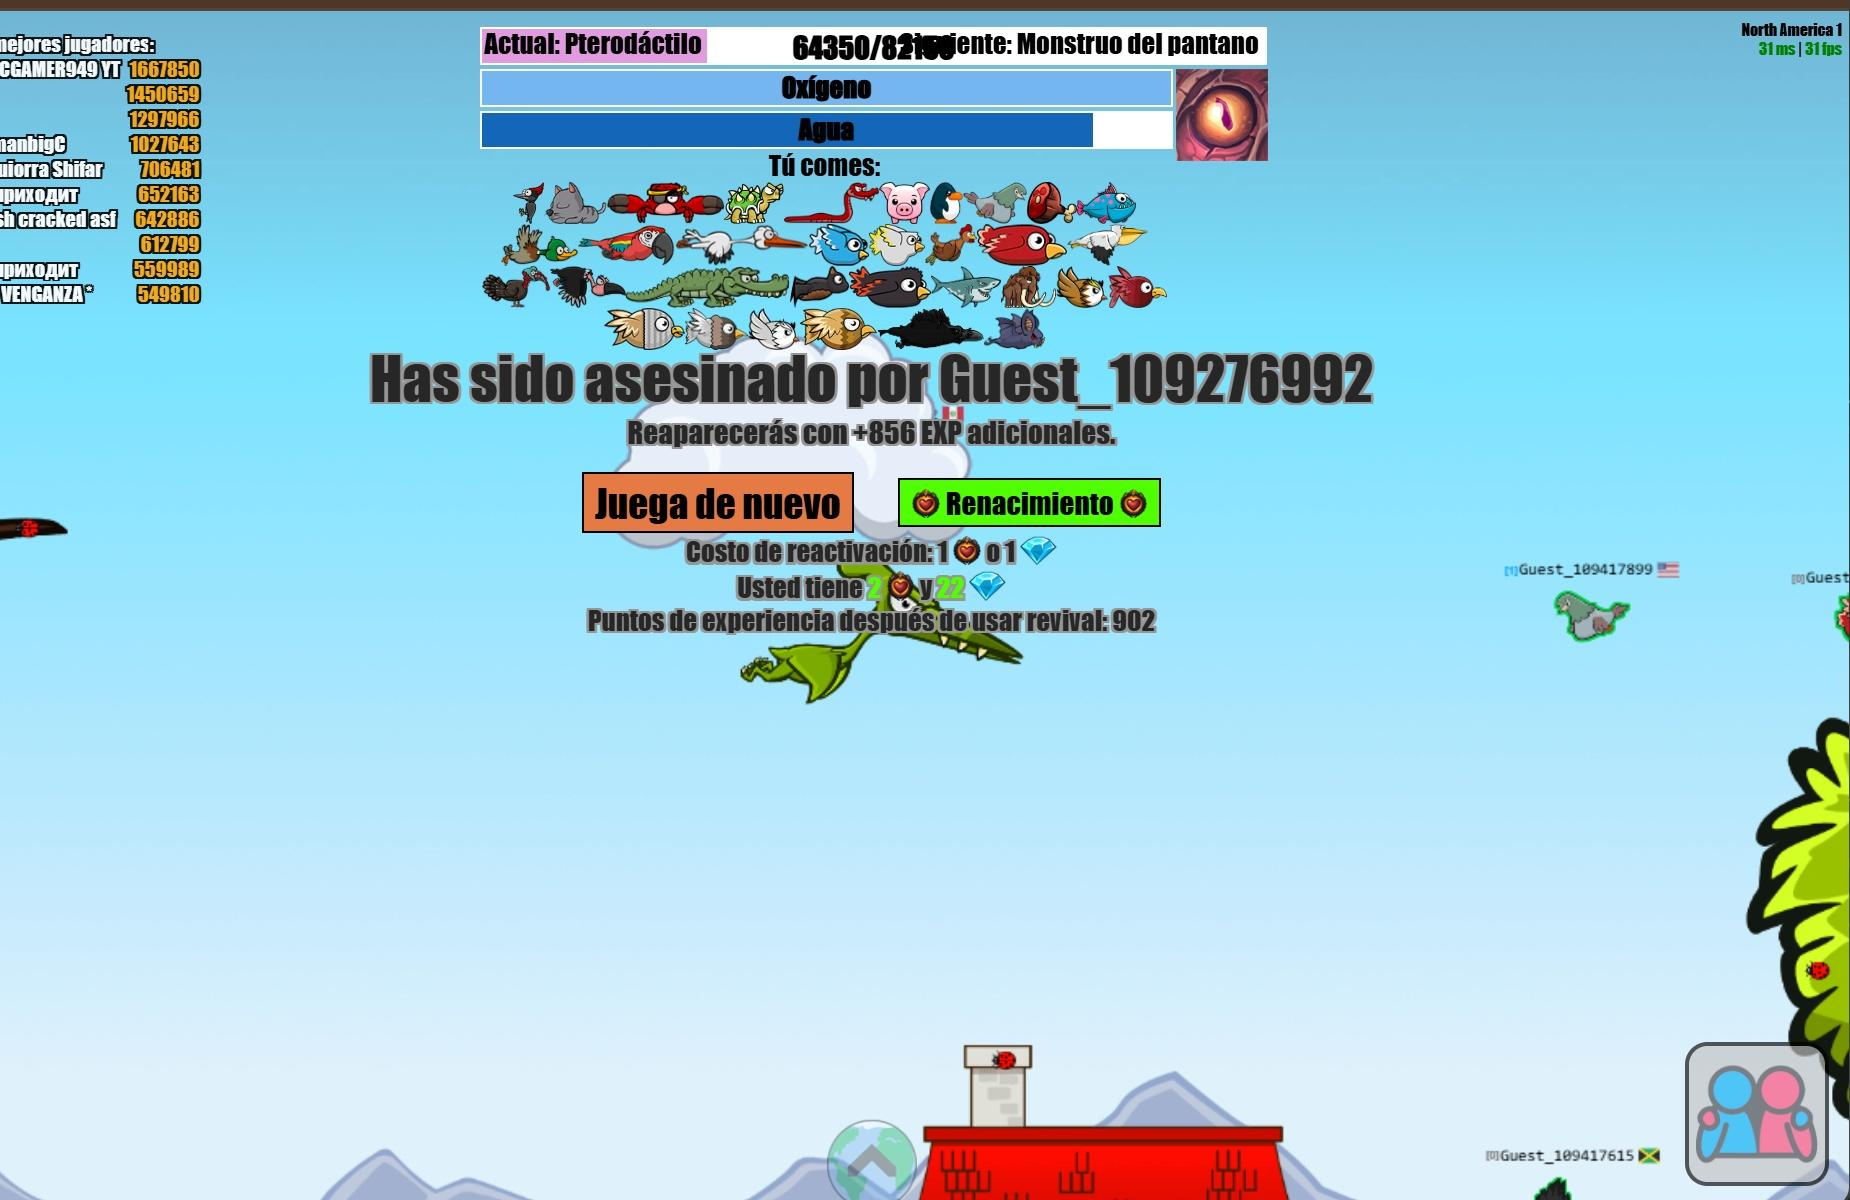aguila: (688, 307, 742, 349)
alcon: (609, 309, 682, 349)
buho: (1057, 270, 1104, 307)
buho_nibal: (750, 309, 796, 349)
buitre: (549, 266, 626, 307)
cangrejo: (609, 179, 723, 222)
carne: (1030, 182, 1072, 222)
cerdo: (881, 181, 929, 224)
ciguenia: (680, 225, 804, 262)
cocodrilo: (628, 268, 789, 303)
cuervo: (885, 307, 983, 351)
gallina: (926, 224, 972, 266)
gato: (547, 179, 607, 225)
gavilan: (802, 310, 874, 349)
gaviota: (868, 224, 921, 266)
loro: (584, 225, 674, 266)
mamut: (1006, 268, 1050, 309)
mariquita: (991, 1048, 1018, 1069), (1806, 960, 1831, 982)
mirio: (851, 267, 928, 307)
murcielago: (793, 267, 847, 302)
murcielago_loco: (984, 311, 1044, 348)
p_azul: (810, 224, 867, 266)
p_carpintero: (512, 181, 546, 224)
p_marron: (1111, 270, 1164, 310)
p_rojo: (976, 224, 1065, 267)
paloma: (1555, 585, 1630, 643), (965, 182, 1026, 222)
pato: (504, 227, 576, 263)
pavo: (484, 268, 550, 307)
pelicano: (1071, 225, 1143, 262)
pinguino: (929, 179, 964, 224)
pirania: (1077, 183, 1137, 221)
serpiente: (786, 181, 878, 222)
tiburon: (932, 271, 998, 306)
tortuga: (725, 182, 785, 224)
